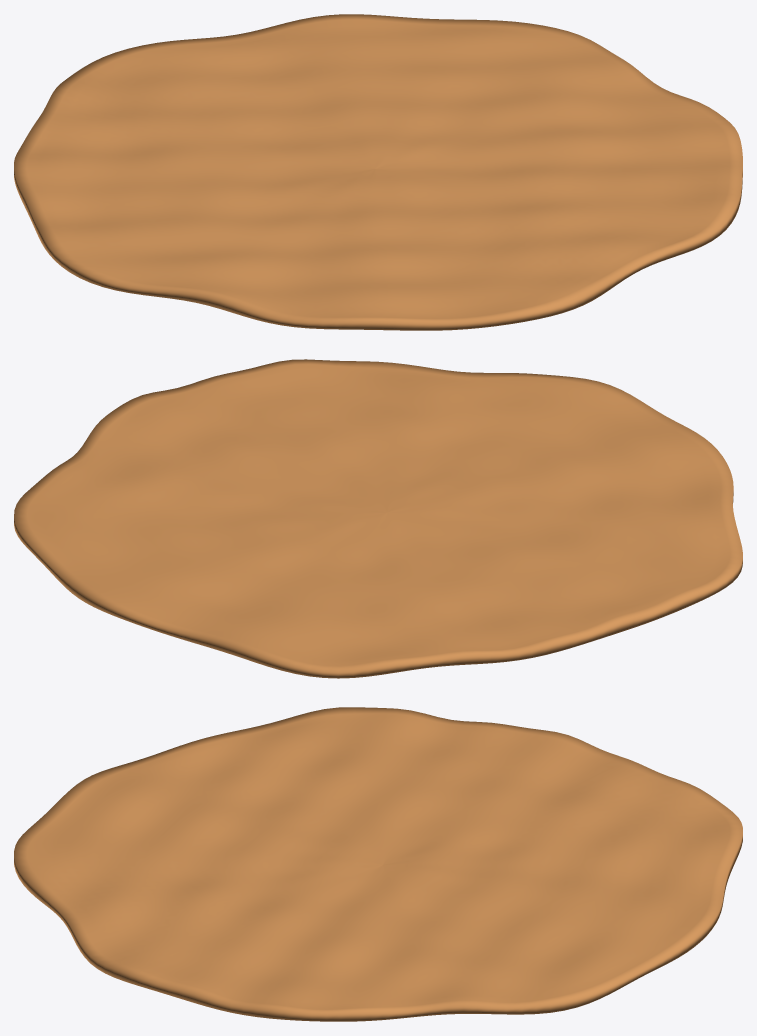
The model's file is sauce-house.glb.
3 renders of one model, top to bottom at view 1: azimuth 30°, elevation 25°; view 2: azimuth 150°, elevation 25°; view 3: azimuth 270°, elevation 25°, orthographic.
Parts seen in each view (by area): view 1: Thin house sauce spread; view 2: Thin house sauce spread; view 3: Thin house sauce spread.
Boxes of the visible parts, x1,y1,x2,y2 form: Thin house sauce spread: (14, 14, 742, 330); Thin house sauce spread: (14, 359, 742, 678); Thin house sauce spread: (14, 707, 742, 1021).
Bounding box in the file's own units: 2.07 × 0.0395 × 2.08.
